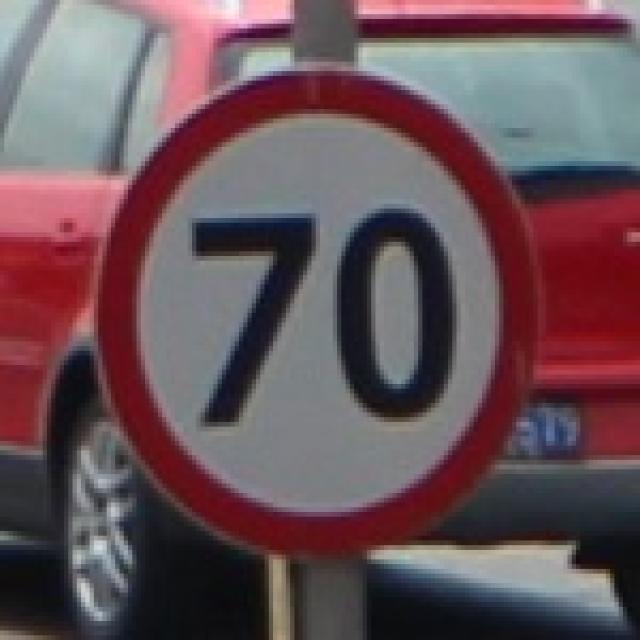Speed Limit -70-: (183, 200, 458, 436)
